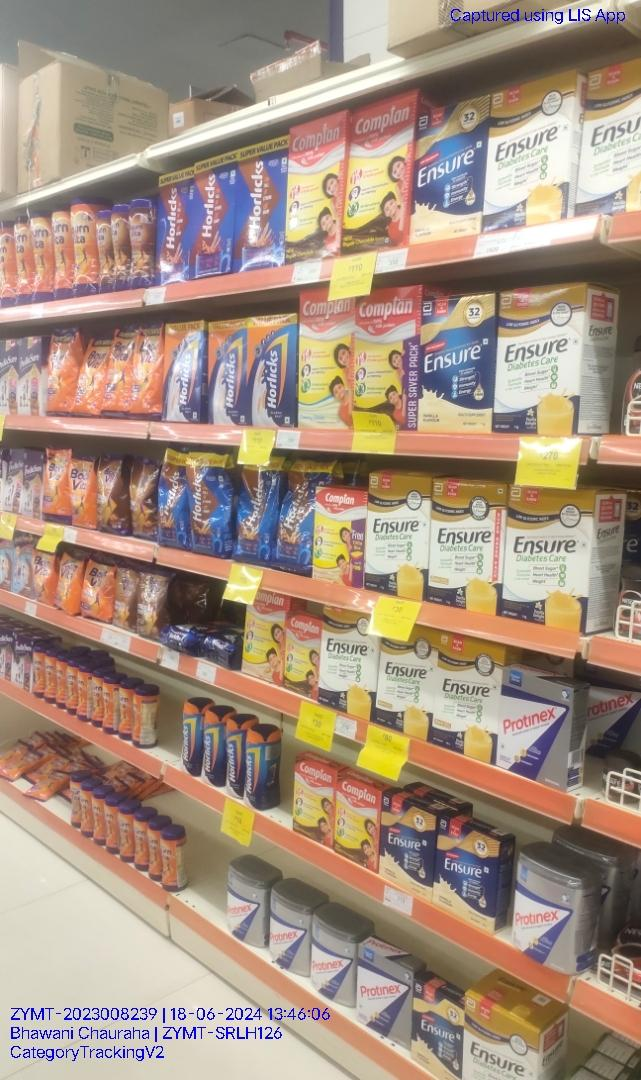COMPLAN_CHOCOLATE_1_KG_PACK: (346, 95, 411, 248), (355, 287, 422, 430), (289, 114, 343, 261)
COMPLAN_CHOCOLATE_200_GMS_PACK: (283, 615, 320, 699)
COMPLAN_CHOCOLATE_500_GMS_PACK: (317, 490, 365, 587), (336, 779, 380, 867), (294, 764, 334, 844)
COMPLAN_KESAR_BADAM_500_GMS_PACK: (241, 591, 283, 680)
ENSURE_VANILLA_400_G_PACK: (435, 821, 500, 928), (382, 801, 434, 892)
HORLICK_CHOCOLATE_1_KG_PACK: (236, 141, 286, 270), (193, 153, 236, 277), (157, 167, 190, 283)
HORLICK_CHOCOLATE_750_G_POUCH: (186, 449, 231, 552), (234, 465, 279, 563), (281, 457, 315, 575)
PROTINEX_ORIGINAL_400_G_JAR: (515, 868, 580, 962), (311, 925, 354, 1005), (270, 897, 311, 973), (228, 878, 268, 946)
